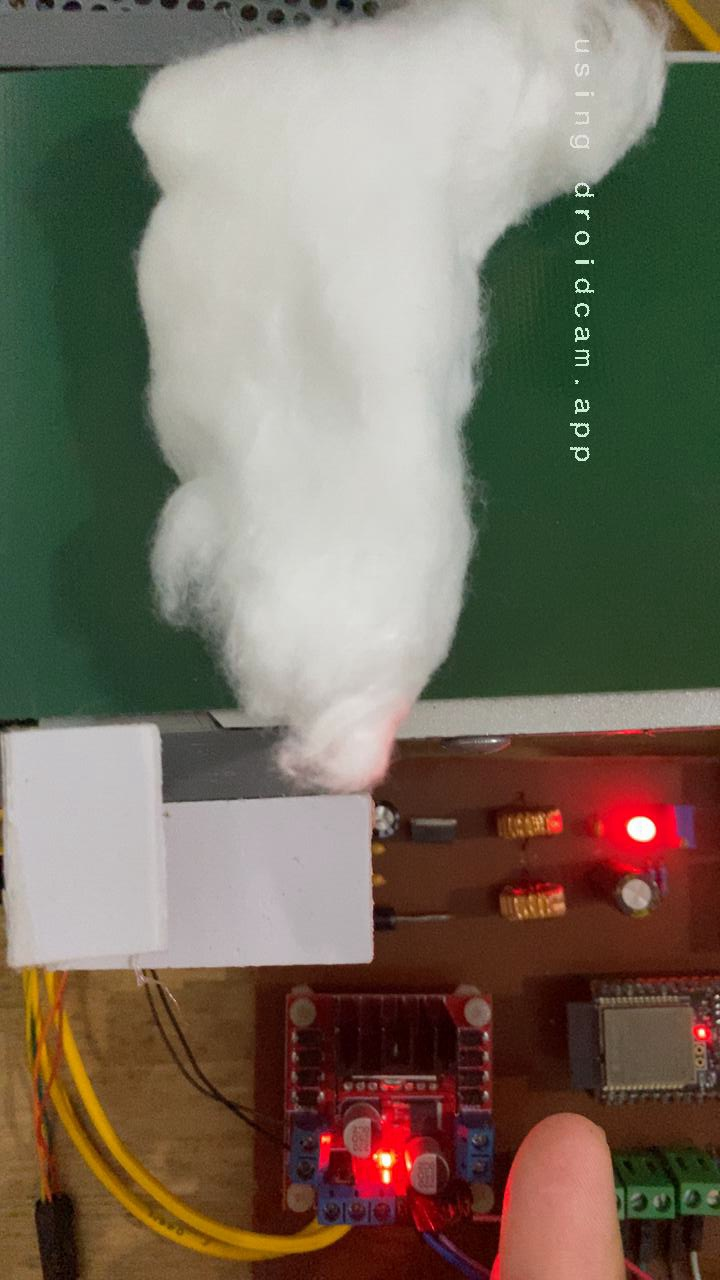cotton: (127, 167, 619, 695)
